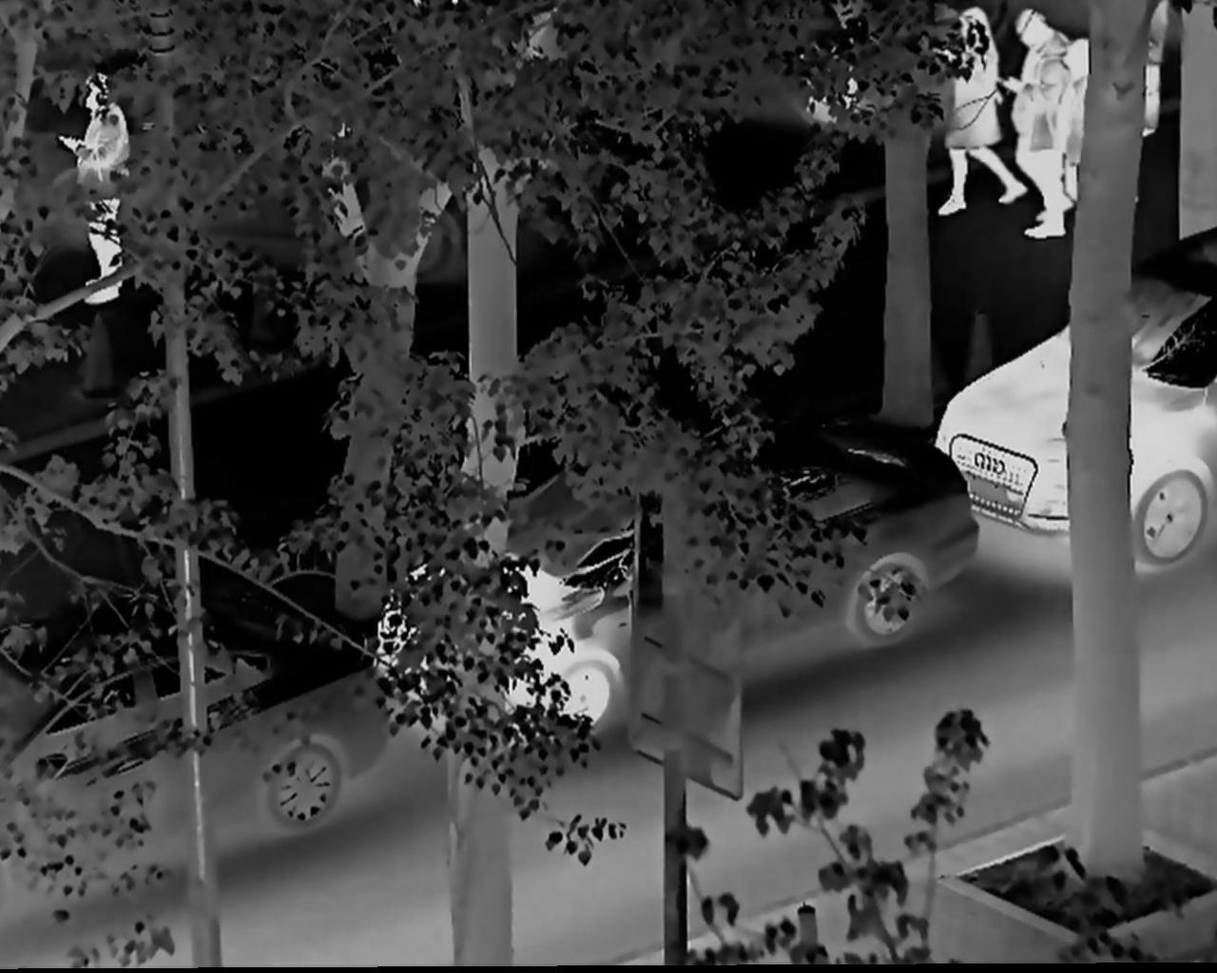person: (50, 65, 139, 310), (930, 5, 1027, 220), (1001, 11, 1080, 246)
